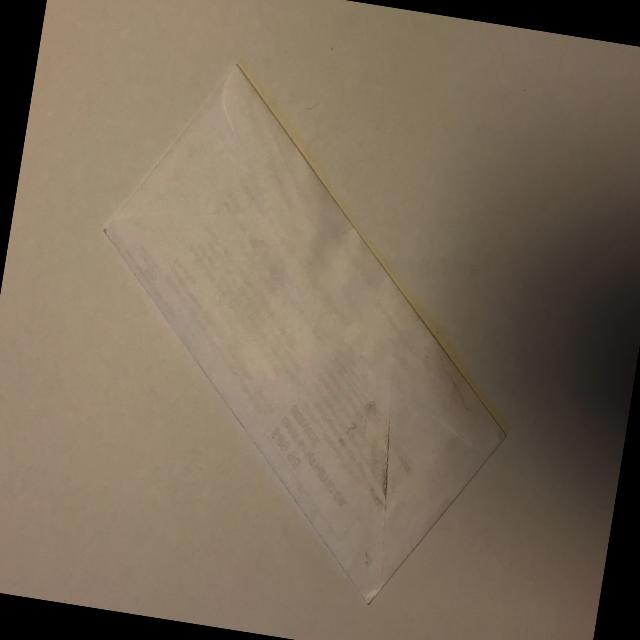Paper: (49, 40, 556, 620)
